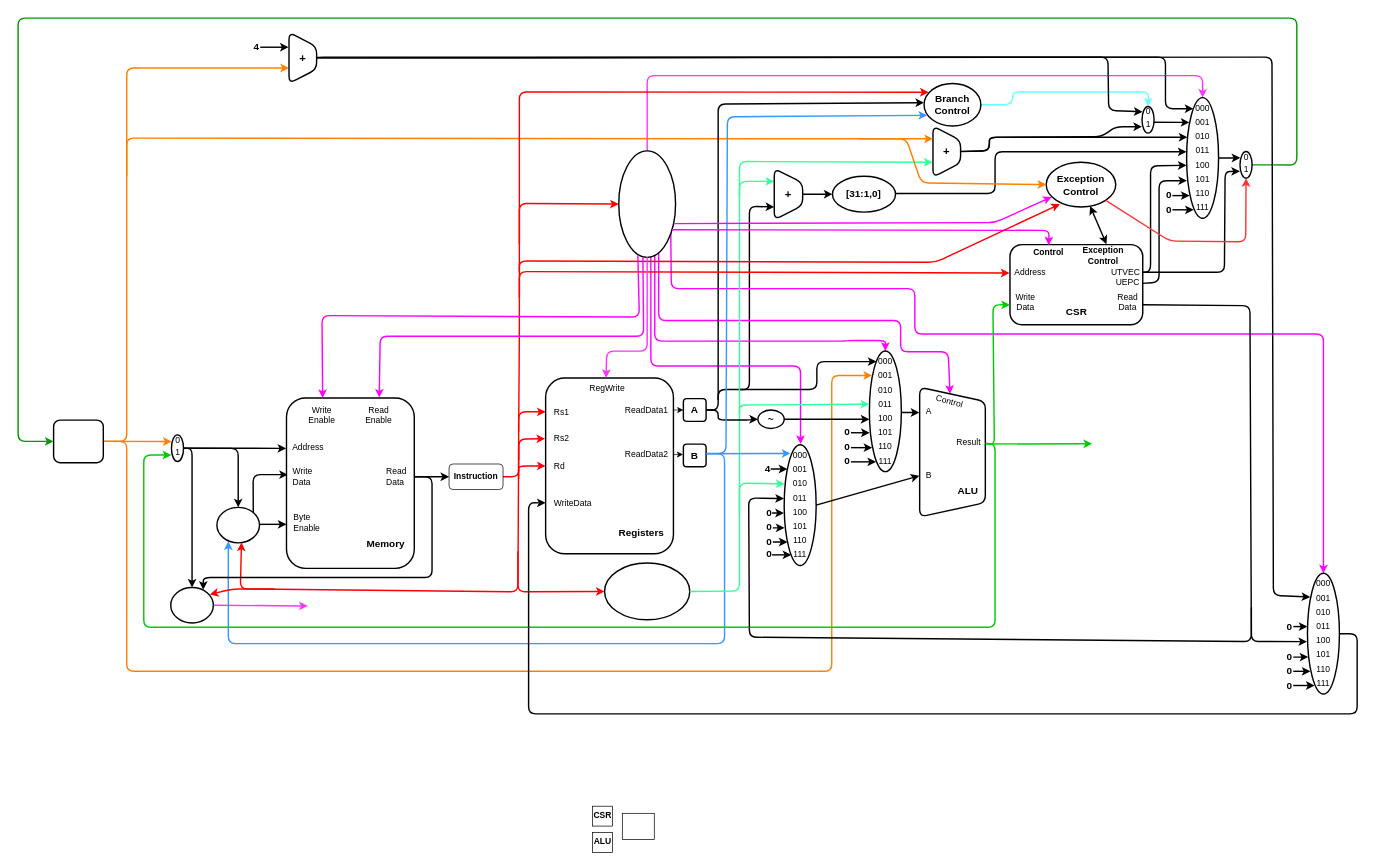
Some shapes in this 1375 by 865 pixel diagram are drawn without their labels. The centre of each missing label's shape, as x and y in pixels:
"C o n t r o l" goes at [647,204].
"Immediate Generator" goes at [647,591].
"Mem Load" goes at [192,604].
"Mem Store" goes at [238,524].
"MemLoad" goes at [638,826].
"PC" goes at [78,441].
